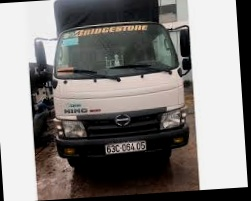Bien-so: (105, 141, 147, 154)
